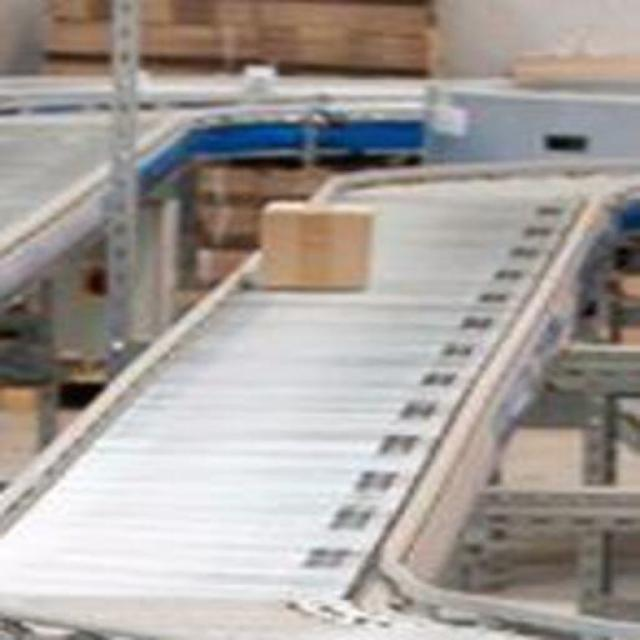conveyor: (0, 152, 639, 638)
